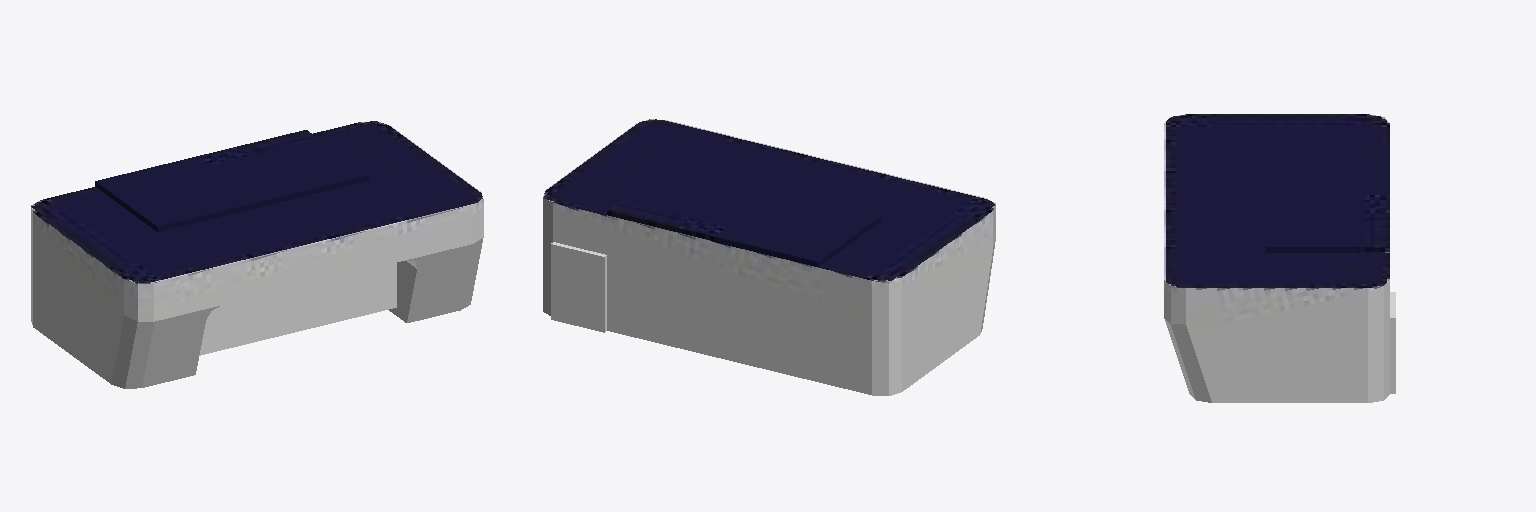
3 renders of one model, left to right at view 1: azimuth 30°, elevation 25°; view 2: azimuth 150°, elevation 25°; view 3: azimuth 270°, elevation 25°, orthographic.
Visible parts, largest first — view 1: printer_low_meshId0_name.001; view 2: printer_low_meshId0_name.001; view 3: printer_low_meshId0_name.001.
Part boxes in pixels (x1,y1,x2,y2): printer_low_meshId0_name.001: (31, 121, 483, 388); printer_low_meshId0_name.001: (543, 119, 995, 395); printer_low_meshId0_name.001: (1164, 114, 1395, 402).
Size of the model in its own units: 2 by 0.6446 by 1.12.
1 materials, 1 textured.